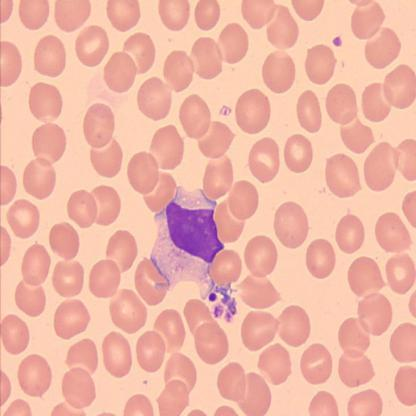Atypical lymphocyte: (152, 186, 238, 319)
